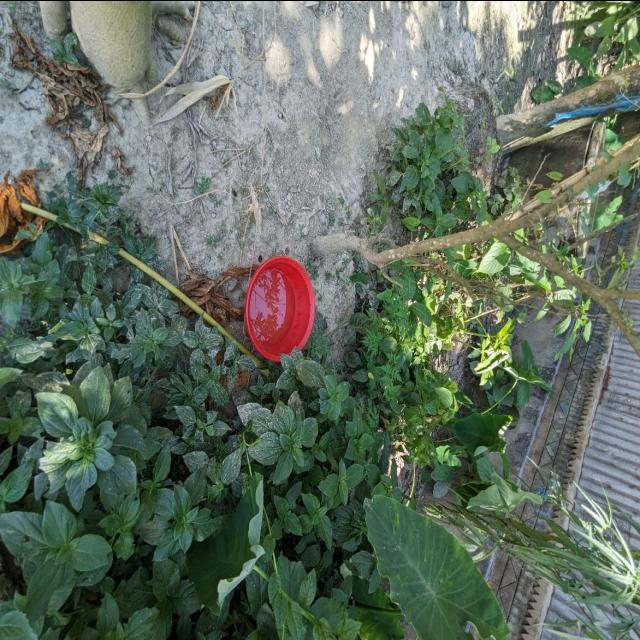Breeding Place: (0, 98, 594, 640), (230, 238, 330, 378)
